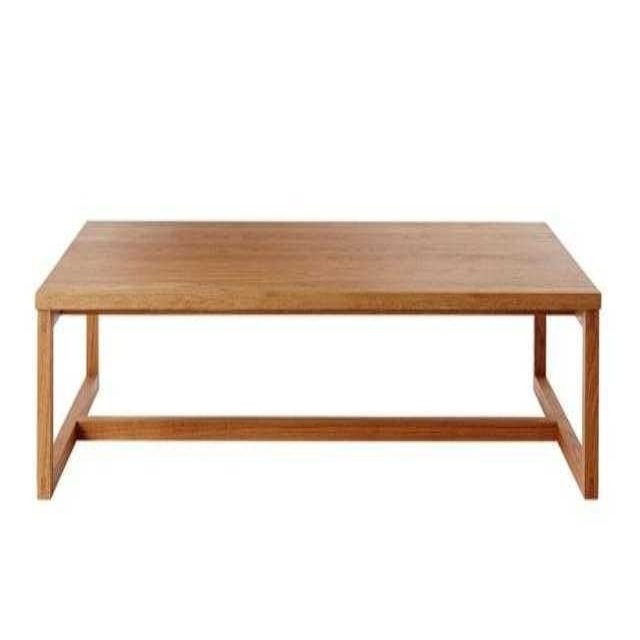obstacle: (36, 221, 600, 497)
